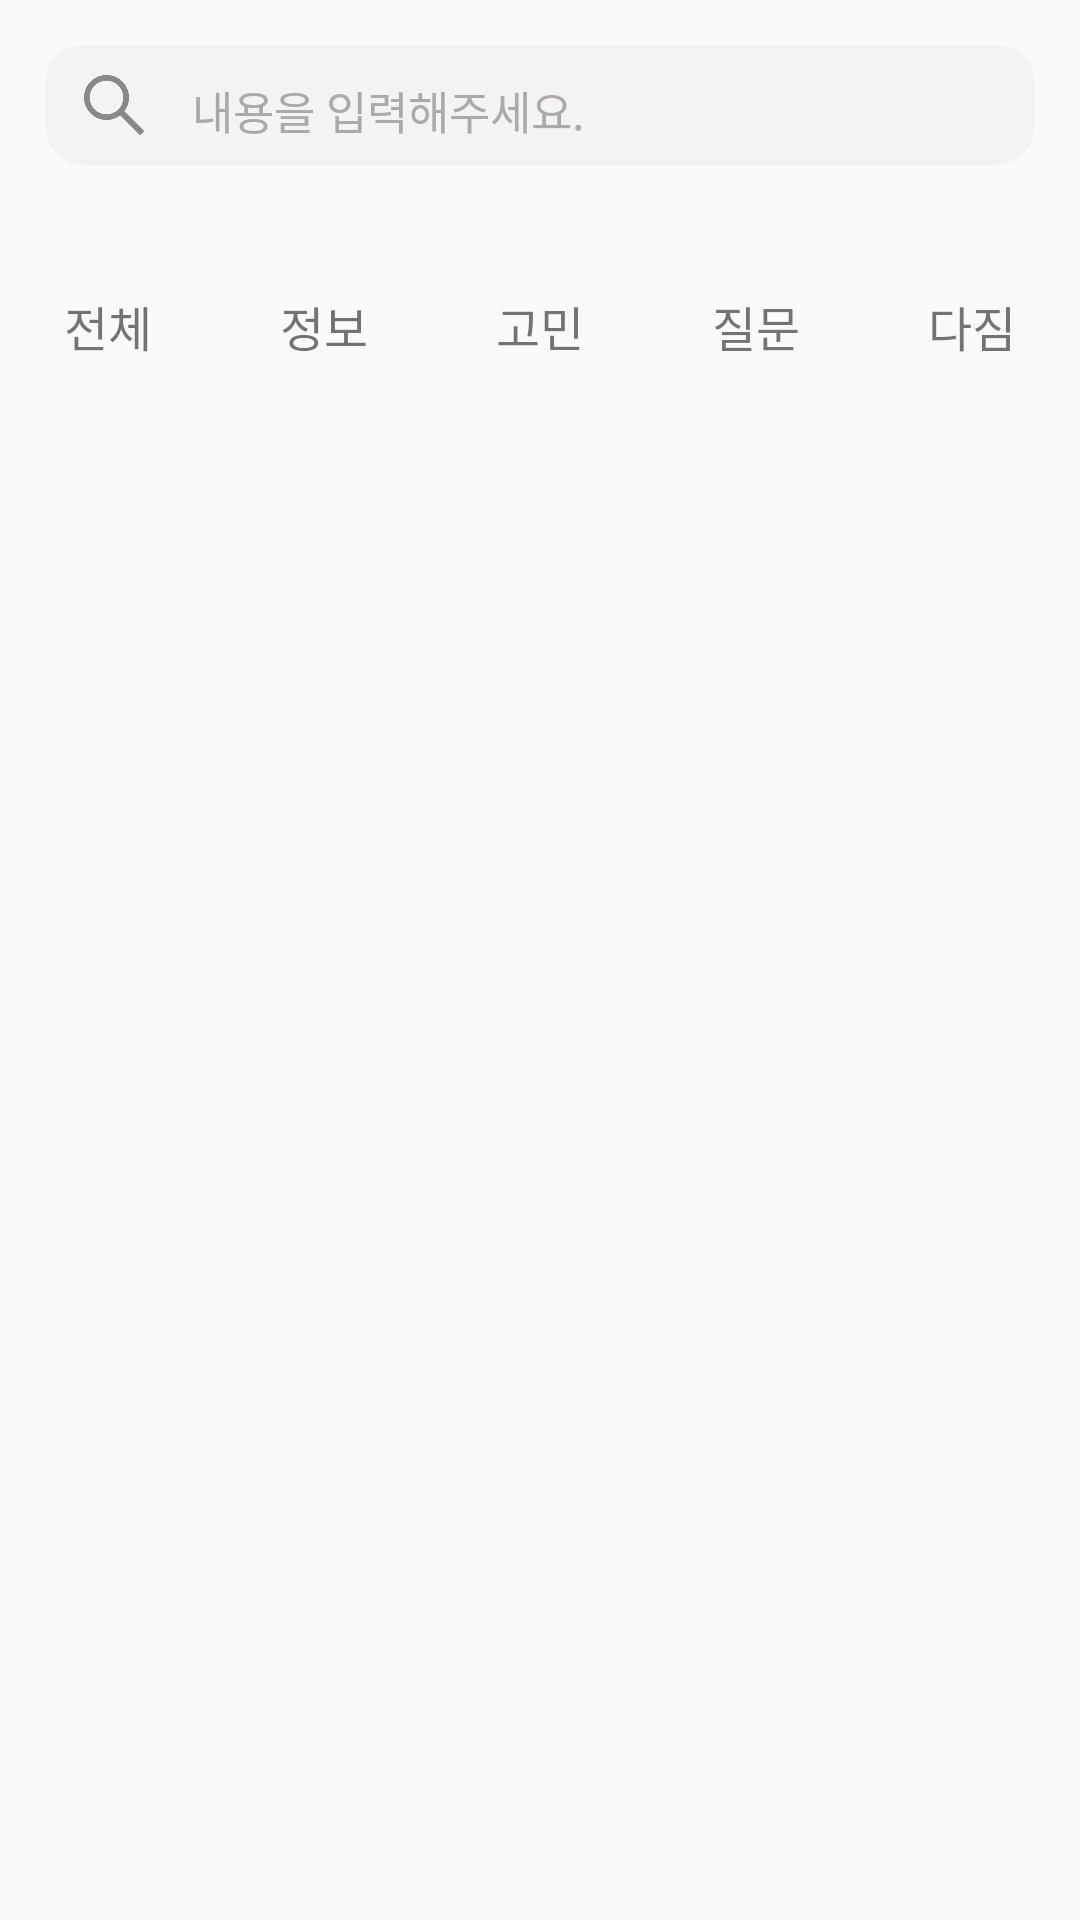

Icons on this 1080px×1920px Android screen, each with its box as (x1, y1, x2, y2):
searchicon: (84, 75, 144, 135)
